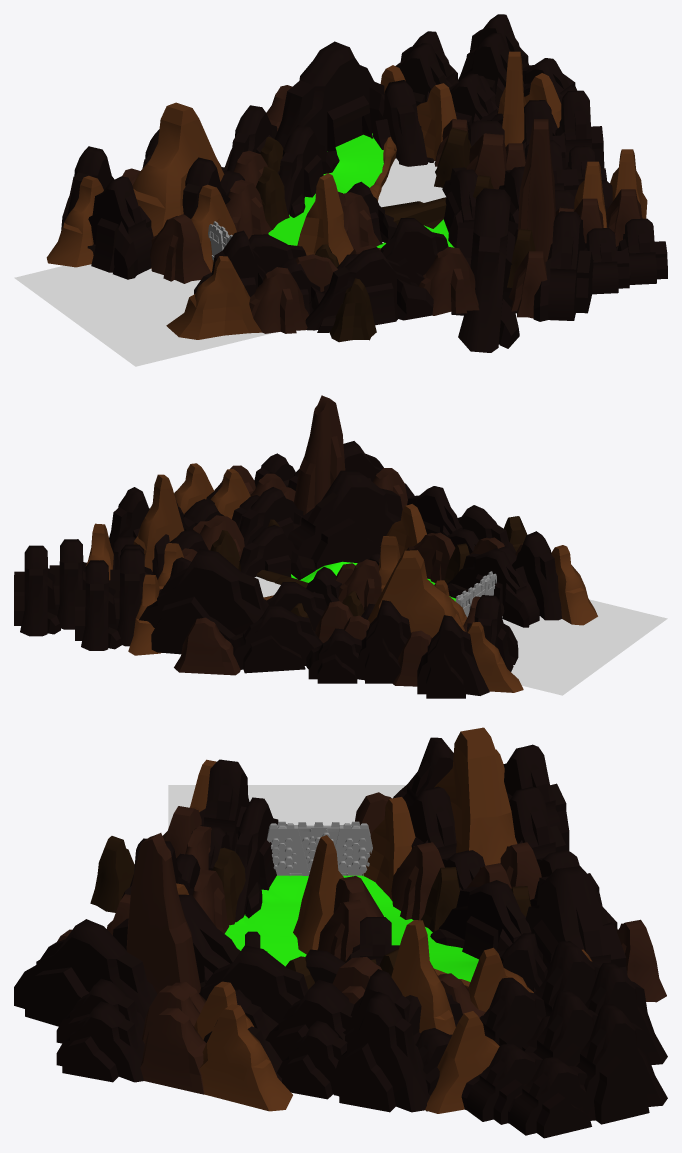
The model's file is Scenario.fbx.
3 renders of one model, top to bottom at view 1: azimuth 30°, elevation 25°; view 2: azimuth 150°, elevation 25°; view 3: azimuth 270°, elevation 25°, orthographic. The views are drawn at different scales.
Visible parts, largest first — view 1: Ground Inside, Mountain_5_01, Mountain_5_02, Mountain_1_005, Mountain_4_015, Mountain_4_038, Mountain_4_021, Mountain_1_006, Mountain_3_013, Ground, Mountain_4_04, Mountain_4_10 (+52 smaller); view 2: Ground Inside, Mountain_5_01, Mountain_5_02, Mountain_4_014, Mountain_4_039, Mountain_1_005, Mountain_3_013, Mountain_4_02, Mountain_4_037, Mountain_4_033, Mountain_4_012, Mountain_4_017 (+38 smaller); view 3: Mountain_4_021, Mountain_4_027, Mountain_3_013, Mountain_4_037, Mountain_1_005, Ground, Mountain_5_01, Mountain_1_009, Mountain_4_024, Ground Inside, Mountain_4_034, Mountain_4_04 (+50 smaller).
Boxes of the visible parts, left/top/right/bottom form: Ground Inside: left=14, top=264, right=274, bottom=366; Mountain_5_01: left=275, top=41, right=384, bottom=153; Mountain_5_02: left=451, top=188, right=519, bottom=352; Mountain_1_005: left=132, top=102, right=224, bottom=268; Mountain_4_015: left=305, top=247, right=433, bottom=332; Mountain_4_038: left=87, top=176, right=153, bottom=279; Mountain_4_021: left=533, top=211, right=593, bottom=321; Mountain_1_006: left=166, top=256, right=261, bottom=339; Mountain_3_013: left=517, top=119, right=555, bottom=261; Ground: left=268, top=133, right=454, bottom=248; Mountain_4_04: left=277, top=125, right=339, bottom=217; Mountain_4_10: left=372, top=80, right=434, bottom=166; Ground Inside: left=502, top=599, right=667, bottom=695; Mountain_5_01: left=134, top=548, right=269, bottom=654; Mountain_5_02: left=287, top=470, right=402, bottom=569; Mountain_4_014: left=229, top=605, right=322, bottom=673; Mountain_4_039: left=417, top=615, right=489, bottom=698; Mountain_1_005: left=367, top=550, right=465, bottom=637; Mountain_3_013: left=294, top=395, right=345, bottom=515; Mountain_4_02: left=447, top=549, right=539, bottom=627; Mountain_4_037: left=14, top=545, right=60, bottom=636; Mountain_4_033: left=75, top=560, right=121, bottom=650; Mountain_4_012: left=355, top=600, right=410, bottom=683; Mountain_4_017: left=512, top=531, right=561, bottom=620; Mountain_4_021: left=14, top=919, right=157, bottom=1026; Mountain_4_027: left=333, top=991, right=430, bottom=1112; Mountain_3_013: left=126, top=833, right=200, bottom=993; Mountain_4_037: left=574, top=1004, right=667, bottom=1124; Mountain_1_005: left=434, top=727, right=517, bottom=865; Ground: left=225, top=875, right=478, bottom=981; Mountain_5_01: left=525, top=866, right=627, bottom=975; Mountain_1_009: left=199, top=1004, right=292, bottom=1111; Mountain_4_024: left=56, top=1001, right=144, bottom=1082; Ground Inside: left=168, top=785, right=405, bottom=827; Mountain_4_034: left=508, top=1057, right=595, bottom=1138; Mountain_4_04: left=430, top=880, right=531, bottom=959.
Size of what is drawn, in the model's own units: 3919 by 1185 by 3055.
